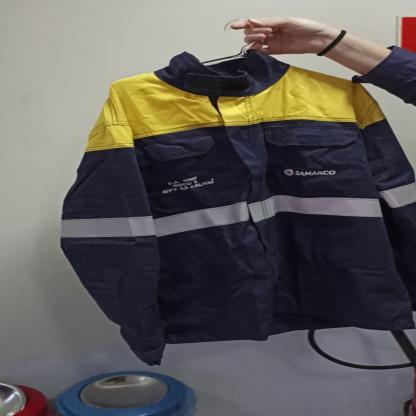C_eletrica: (56, 50, 416, 360)
